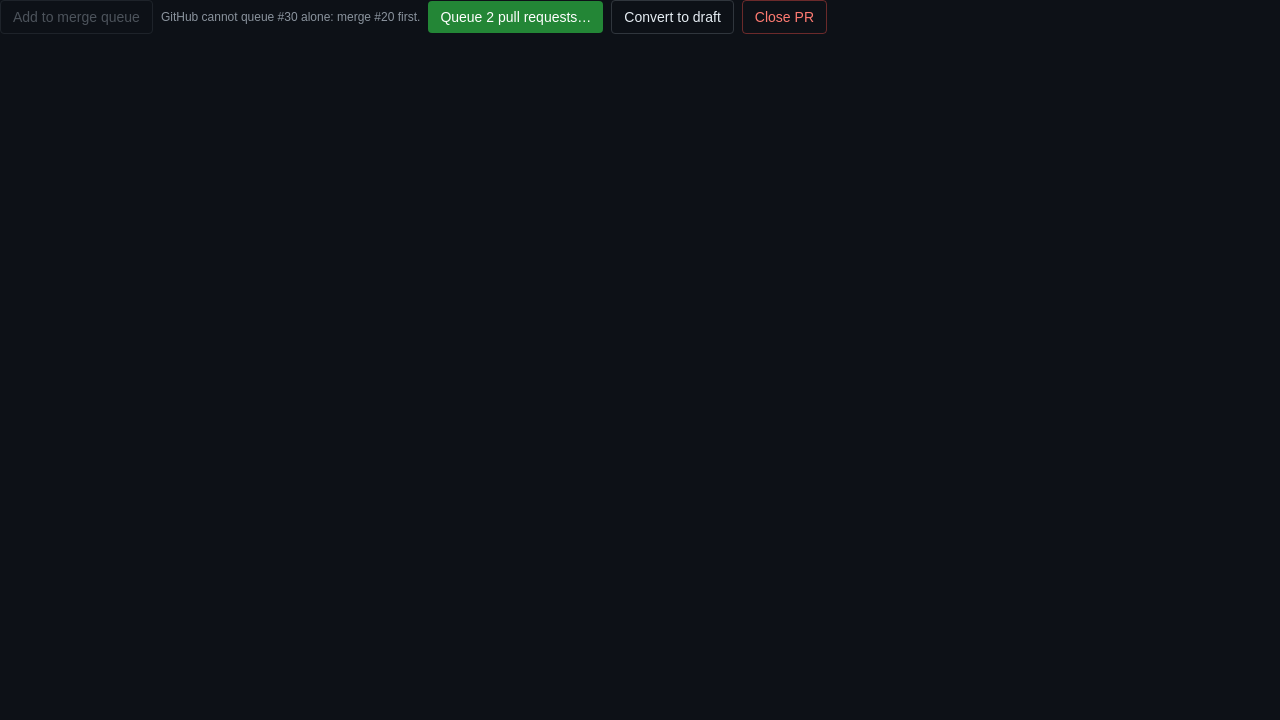
Test: reports aggregate failure checks as advisory when required-check policy is unknown
The image size is (1280, 720).
Click the button "Queue 2 pull requests…" at (516, 17), box x1=428 y1=1 x2=603 y2=33
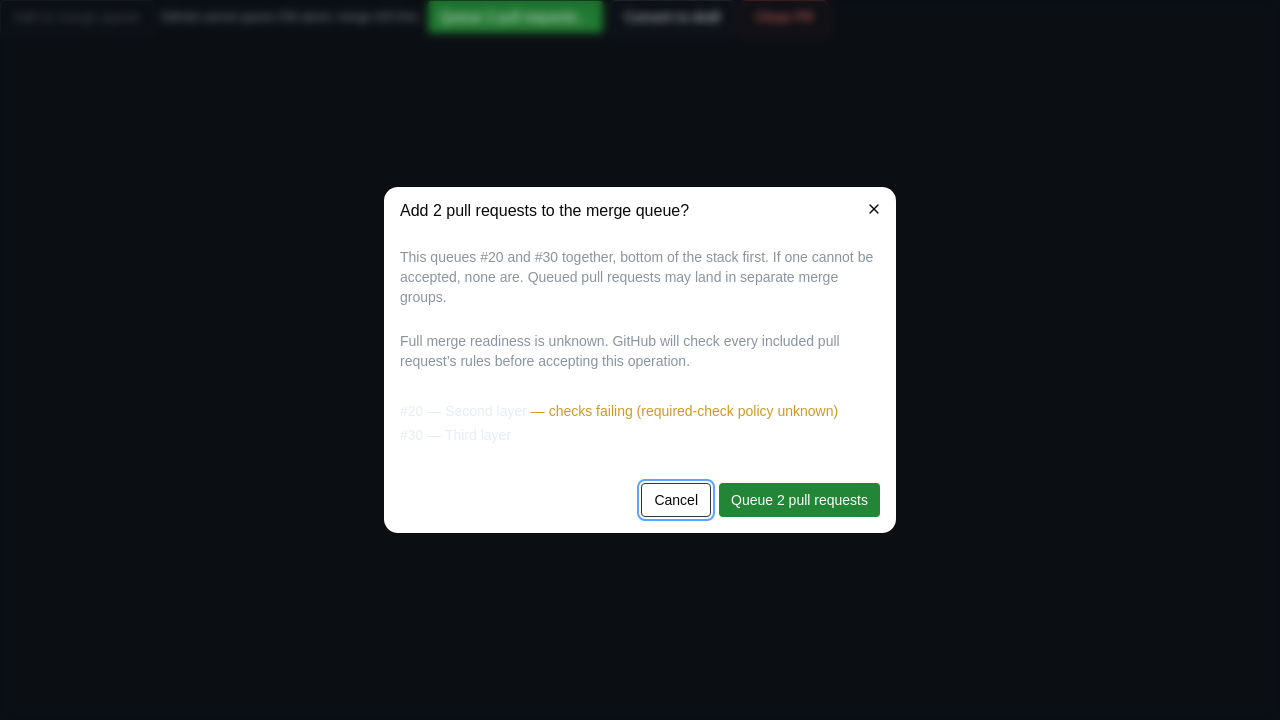
Expected: the dialog shows "checks failing", x1=549 y1=403 x2=838 y2=419
Expected: the button "Queue 2 pull requests" is enabled, x1=719 y1=483 x2=880 y2=517
